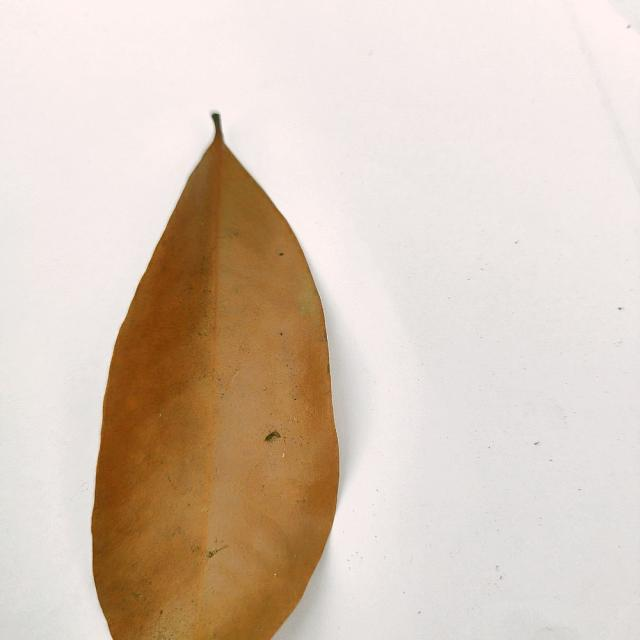Dry_Leaf-Lychee: (92, 114, 341, 639)
